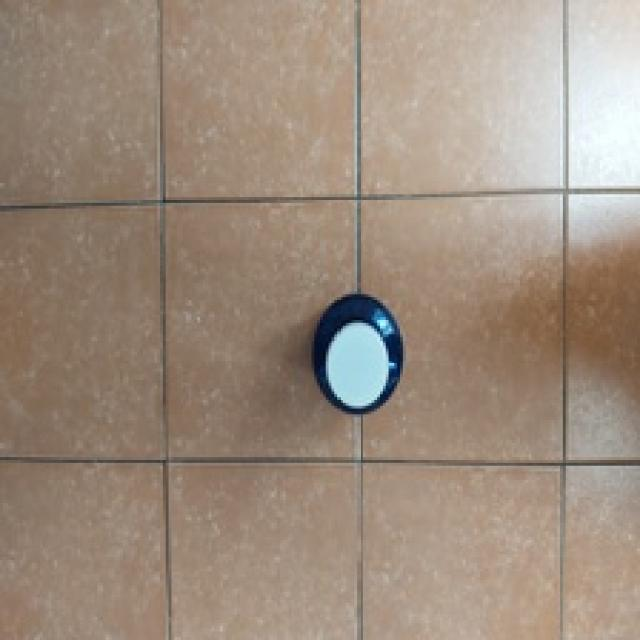Plastic: (306, 294, 406, 412)
